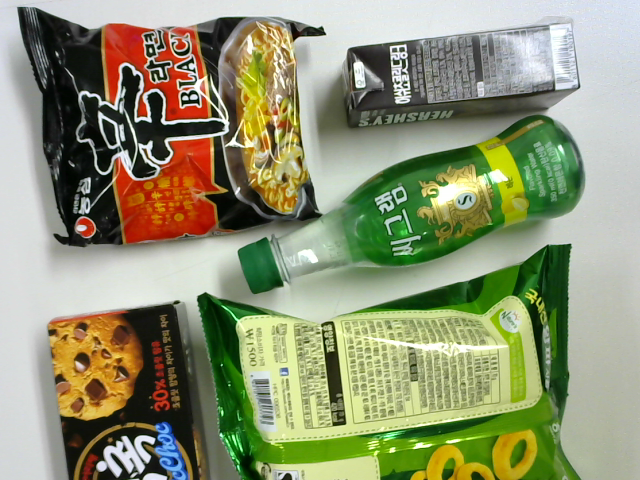Chicchok_Original_2400: (39, 304, 208, 480)
Grilled_Onions: (193, 246, 586, 480)
Hush_Choco_Drink: (333, 16, 585, 128)
Seagram_Lemon_Carbonated_Water: (237, 104, 585, 290)
Sinramen_Black: (13, 6, 337, 240)
